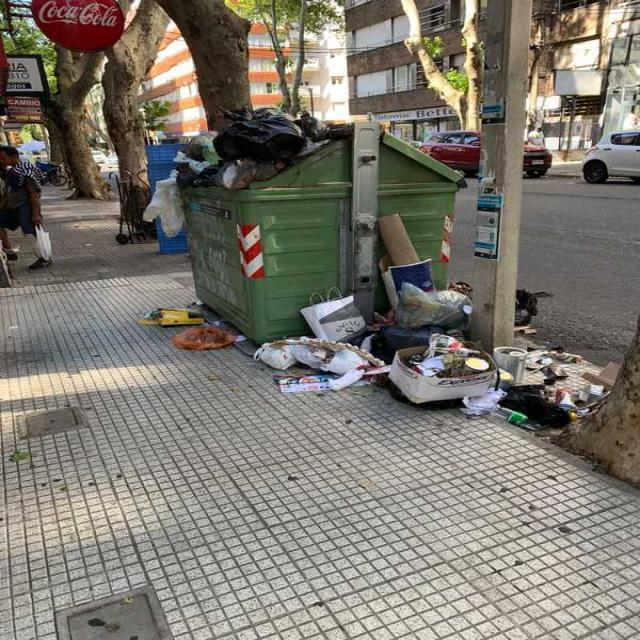high trash: (255, 214, 615, 429)
